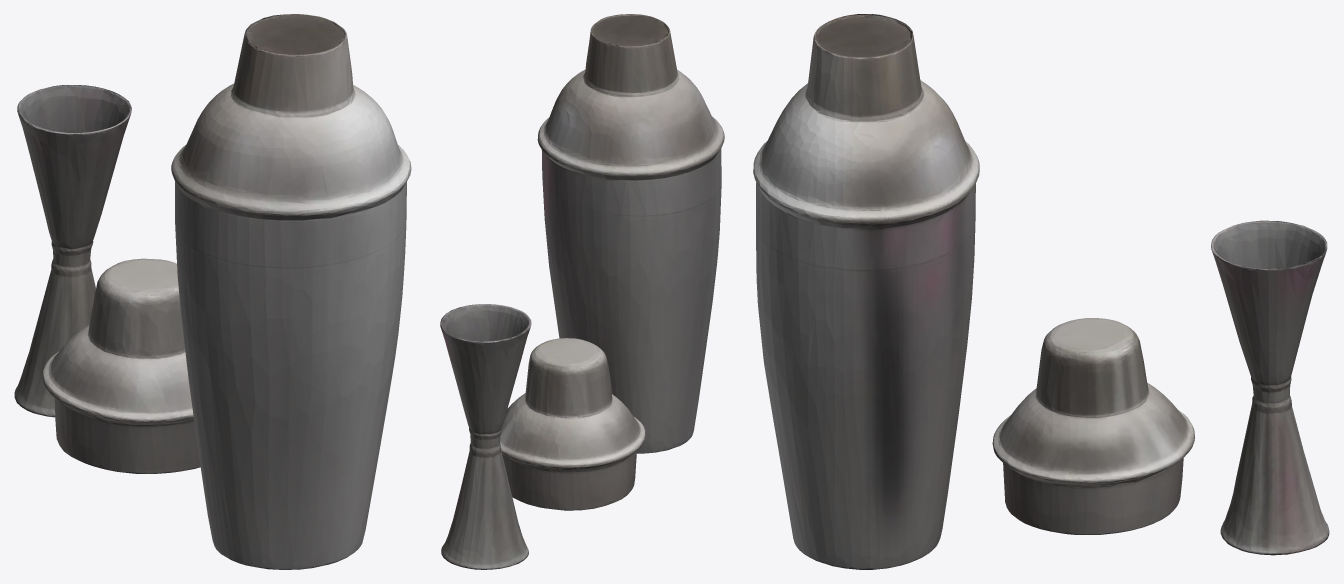
3 renders of one model, left to right at view 1: azimuth 30°, elevation 25°; view 2: azimuth 150°, elevation 25°; view 3: azimuth 270°, elevation 25°, orthographic. The views are drawn at different scales.
Parts seen in each view (by area): view 1: geometry_0; view 2: geometry_0; view 3: geometry_0.
Boxes of the visible parts, x1,y1,x2,y2 form: geometry_0: (14,14,411,569); geometry_0: (440,14,724,569); geometry_0: (753,14,1329,569).
Size of the model in its own units: 0.4489 by 0.9675 by 0.9954.
1 material, 1 textured.
